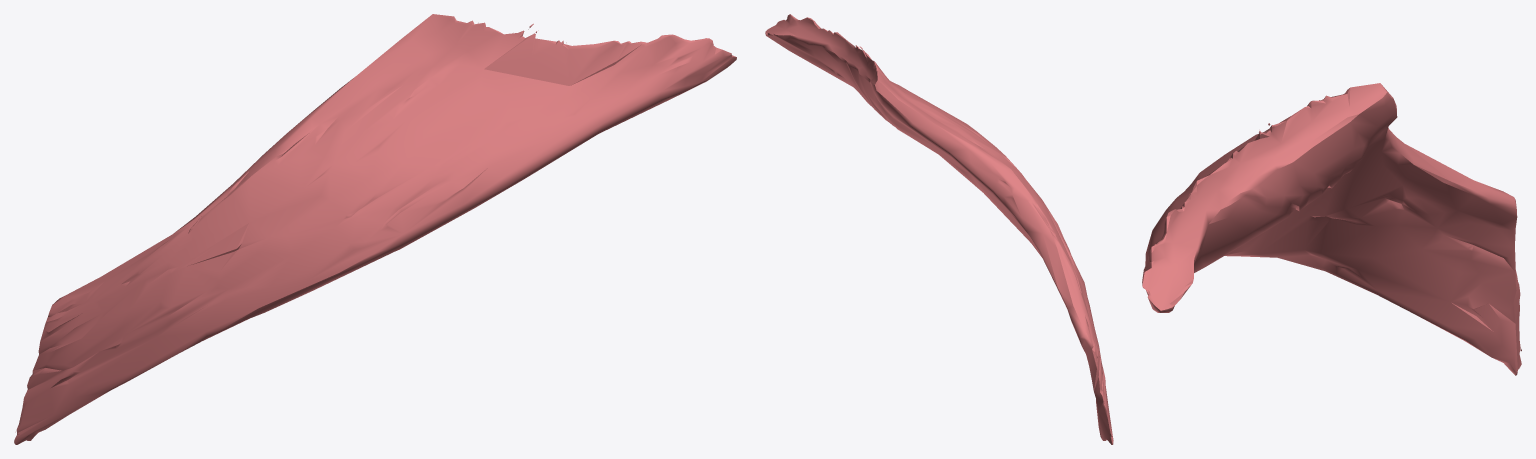
3 views of the same model, side by side, from view 1: azimuth 30°, elevation 25°; view 2: azimuth 150°, elevation 25°; view 3: azimuth 270°, elevation 25° (orthographic). The views are drawn at different scales.
Visible parts, largest first — view 1: FJ1447; view 2: FJ1447; view 3: FJ1447.
Boxes of the visible parts, x1,y1,x2,y2 form: FJ1447: (14, 14, 736, 444); FJ1447: (765, 14, 1113, 444); FJ1447: (1142, 83, 1521, 375).
Bounding box in the file's own units: 0.167 × 0.1009 × 0.0628.
